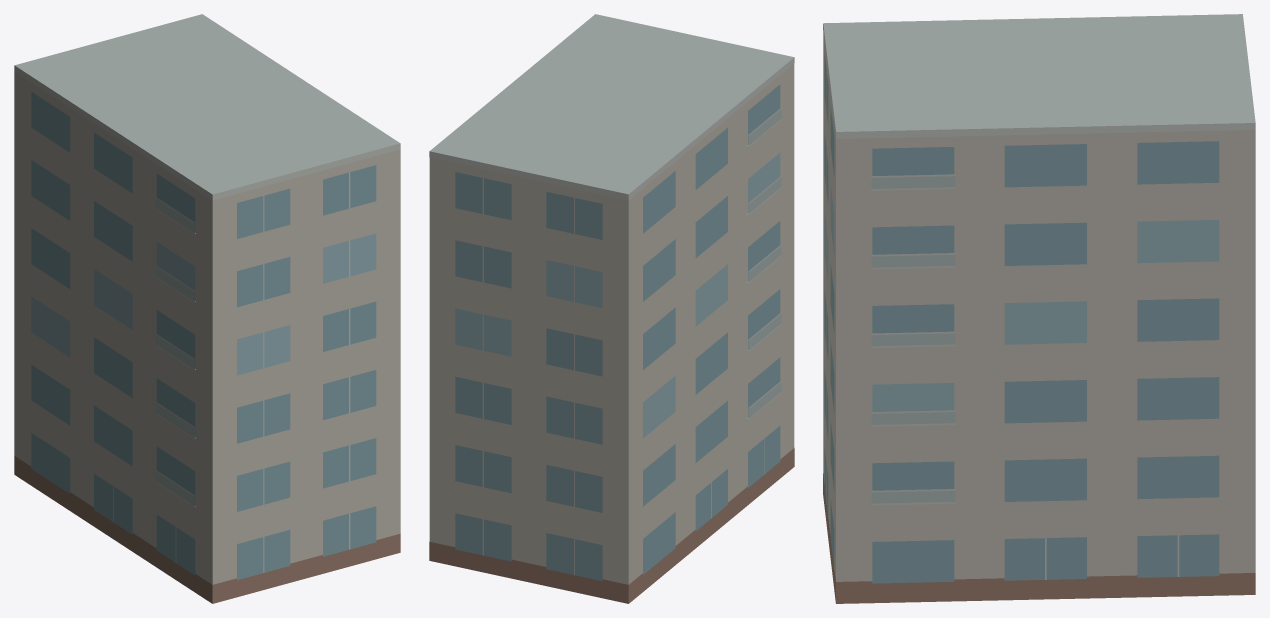
The model's file is survey-upis-32978244.glb.
The picture shows the model from 3 angles, left to right: view 1: azimuth 30°, elevation 25°; view 2: azimuth 150°, elevation 25°; view 3: azimuth 270°, elevation 25°; orthographic projection. The views are drawn at different scales.
Visible parts, largest first — view 1: survey-upis-32978244.tmp; view 2: survey-upis-32978244.tmp; view 3: survey-upis-32978244.tmp.
Boxes of the visible parts, x1,y1,x2,y2 form: survey-upis-32978244.tmp: [14, 14, 400, 603]; survey-upis-32978244.tmp: [429, 14, 794, 603]; survey-upis-32978244.tmp: [823, 14, 1255, 603].
Size of the model in its own units: 8.85 by 16.5 by 13.71.
